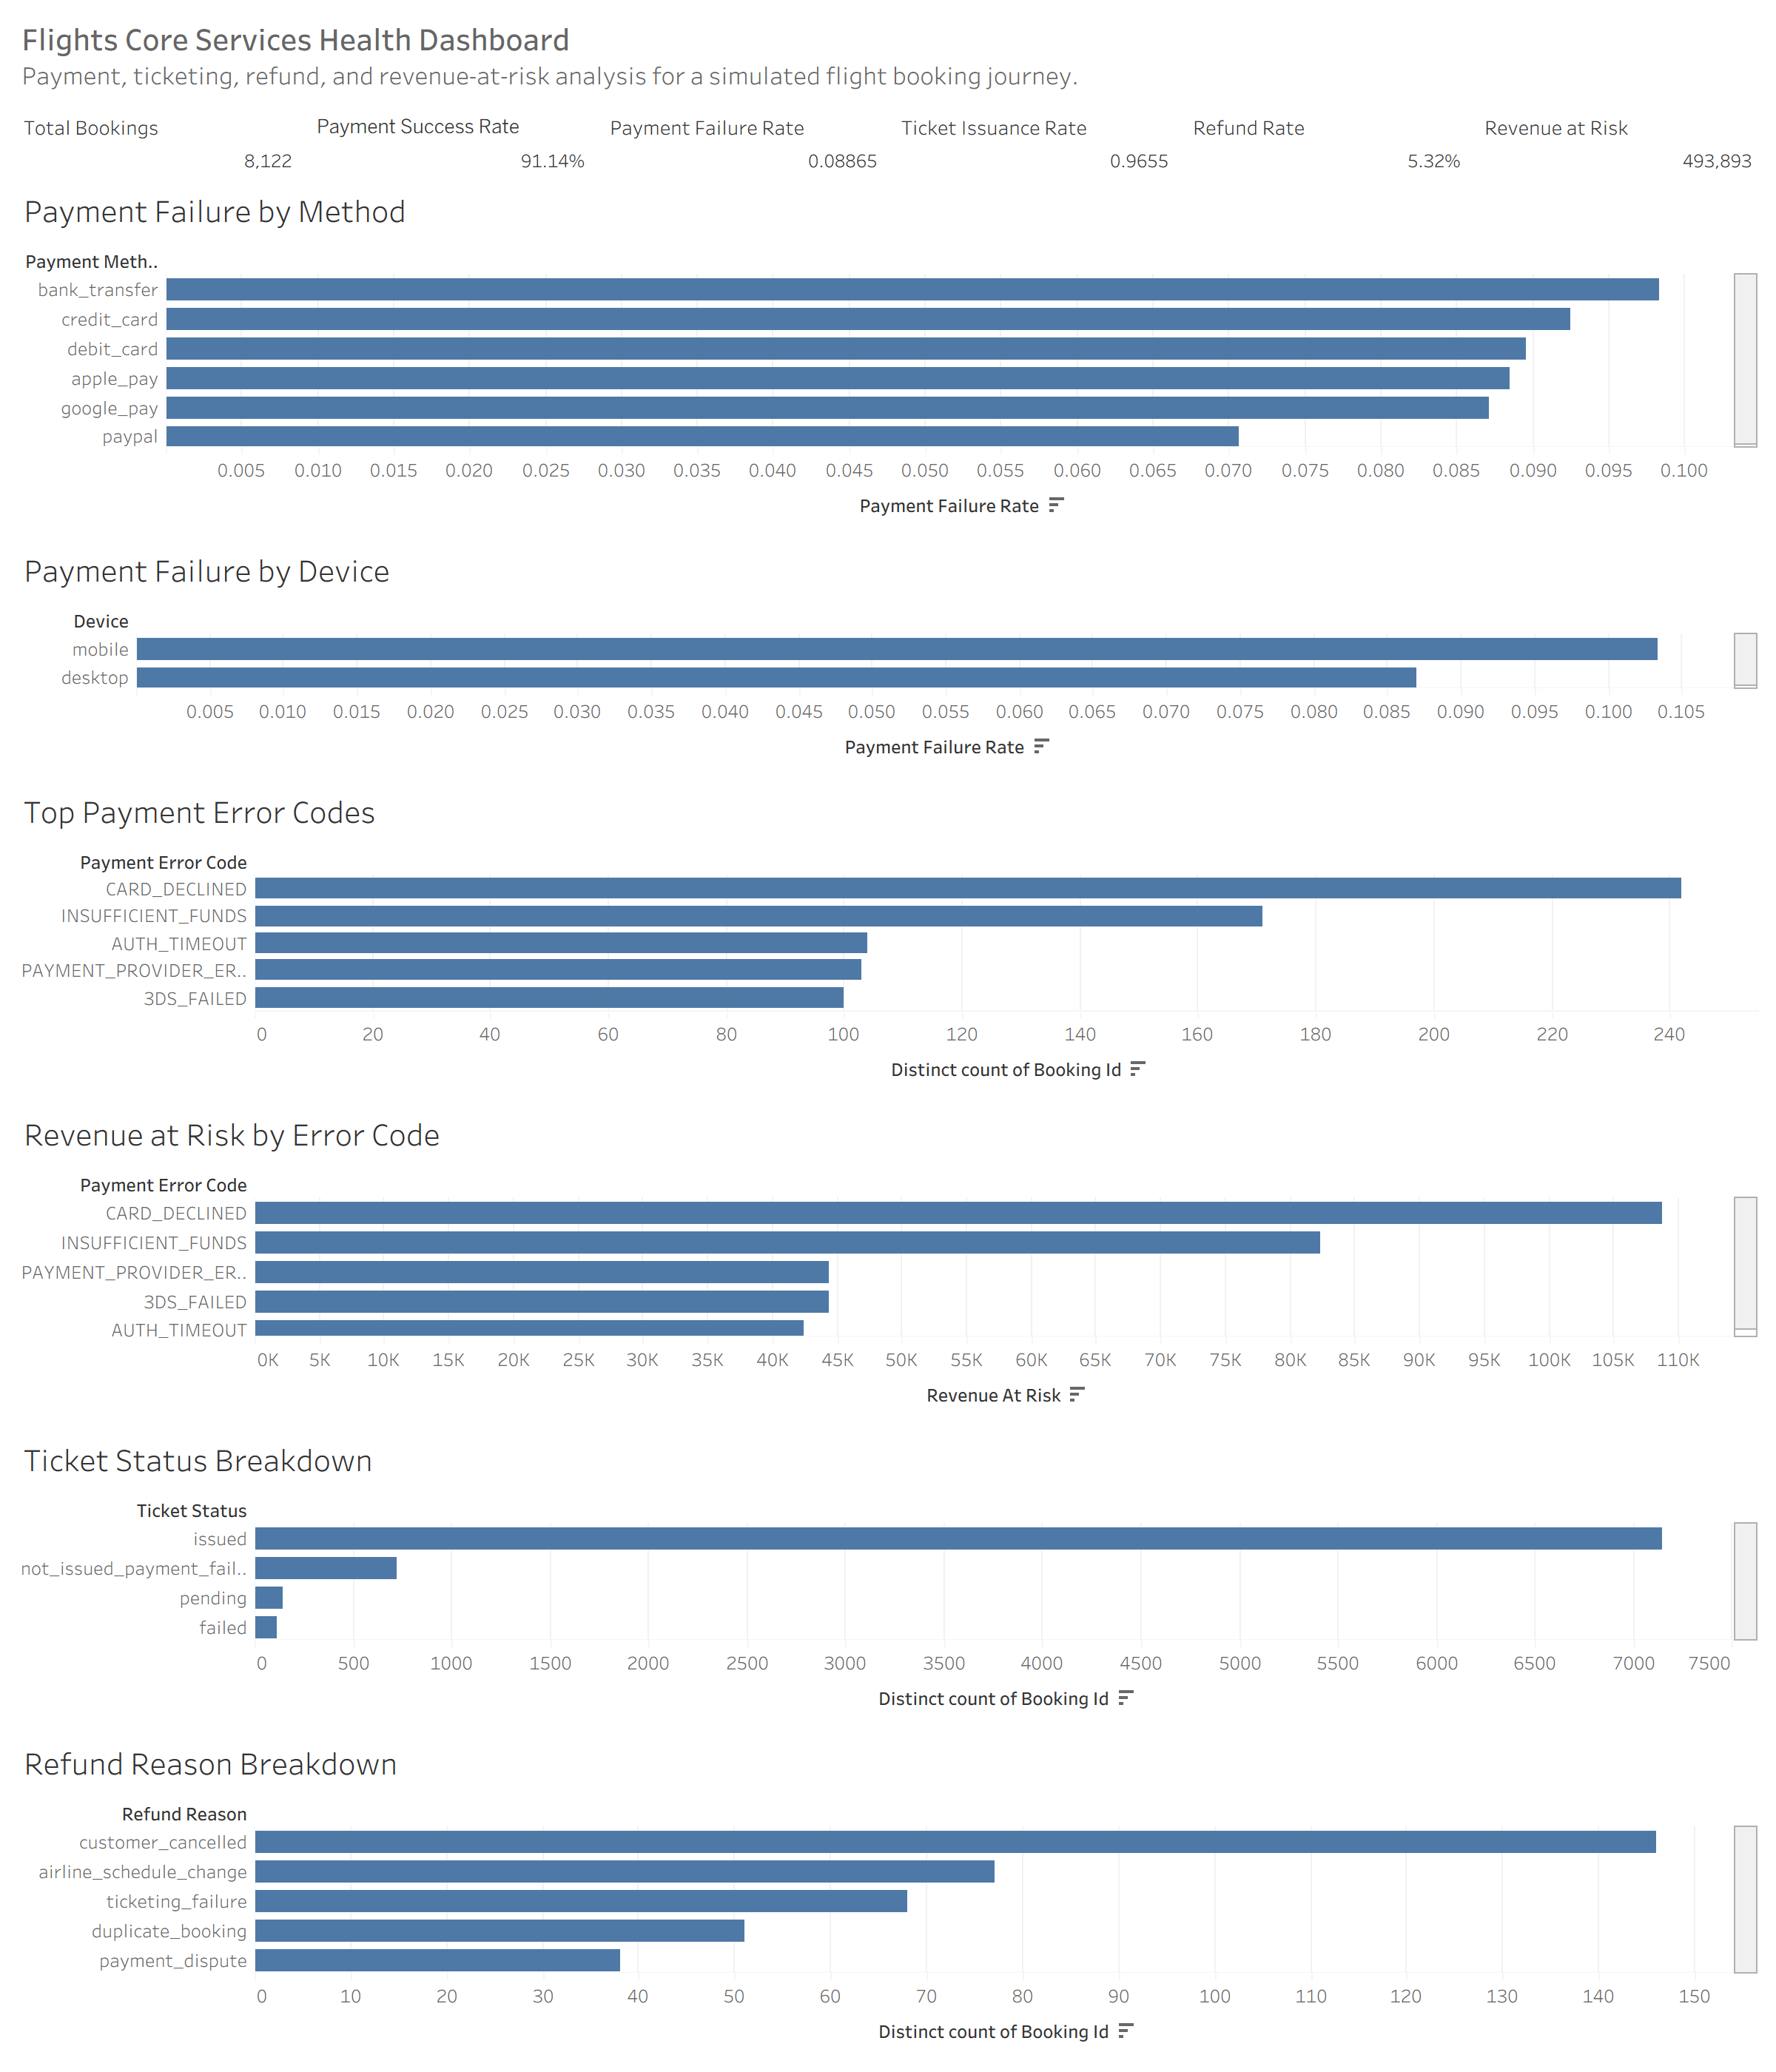

The dashboard page shown, as its layout file describes it:
{"tool":"tableau","page":{"name":"Flights Core Services Health Dashboard","canvas":[1200,1400],"ordinal":0},"visuals":[{"type":"text","box":[8,8,1184,59]},{"type":"worksheet","title":"KPI - Total Bookings","mark":"Automatic","box":[8,67,105,51]},{"type":"worksheet","title":"KPI - Payment Success Rate","mark":"Automatic","box":[113,67,85,51]},{"type":"worksheet","title":"KPI - Payment Failure Rate","mark":"Automatic","box":[198,67,85,51]},{"type":"worksheet","title":"KPI - Ticket Issuance Rate","mark":"Automatic","box":[283,67,84,51]},{"type":"worksheet","title":"KPI - Refund Rate","mark":"Automatic","box":[367,67,85,51]},{"type":"worksheet","title":"KPI - Revenue at Risk","mark":"Automatic","box":[452,67,85,51]},{"type":"worksheet","title":"Payment Failure by Method","mark":"Automatic","rows":["payment_method"],"cols":["Calculation_1167162903789569"],"box":[8,118,1184,243]},{"type":"worksheet","title":"Payment Failure by Device","mark":"Automatic","rows":["device"],"cols":["Calculation_1167162903789569"],"box":[8,361,1184,166]},{"type":"worksheet","title":"Top Payment Error Codes","mark":"Automatic","rows":["payment_error_code"],"cols":["booking_id"],"box":[8,527,1184,216]},{"type":"worksheet","title":"Revenue at Risk by Error Code","mark":"Automatic","rows":["payment_error_code"],"cols":["revenue_at_risk"],"box":[8,743,1184,217]},{"type":"worksheet","title":"Ticket Status Breakdown","mark":"Automatic","rows":["ticket_status"],"cols":["booking_id"],"box":[8,960,1184,206]},{"type":"worksheet","title":"Refund Reason Breakdown","mark":"Automatic","rows":["refund_reason"],"cols":["booking_id"],"box":[8,1166,1184,226]}]}

Visuals, with their boxes in screenshot pixels (x1, y1, x2, y2), scaled from the page's 1200x1400 canvas onto the 1776x2072 screenshot:
text: (12,12,1764,99)
"KPI - Total Bookings" worksheet: (12,99,167,175)
"KPI - Payment Success Rate" worksheet: (167,99,293,175)
"KPI - Payment Failure Rate" worksheet: (293,99,419,175)
"KPI - Ticket Issuance Rate" worksheet: (419,99,543,175)
"KPI - Refund Rate" worksheet: (543,99,669,175)
"KPI - Revenue at Risk" worksheet: (669,99,795,175)
"Payment Failure by Method" worksheet: (12,175,1764,534)
"Payment Failure by Device" worksheet: (12,534,1764,780)
"Top Payment Error Codes" worksheet: (12,780,1764,1100)
"Revenue at Risk by Error Code" worksheet: (12,1100,1764,1421)
"Ticket Status Breakdown" worksheet: (12,1421,1764,1726)
"Refund Reason Breakdown" worksheet: (12,1726,1764,2060)
